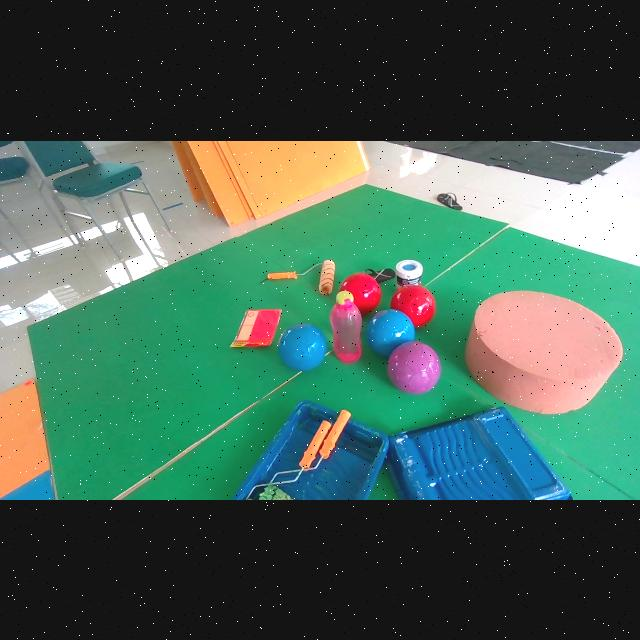B: (277, 322, 327, 370), (367, 308, 415, 354)
P: (387, 340, 441, 393)
R: (391, 285, 436, 326), (340, 272, 382, 314)
